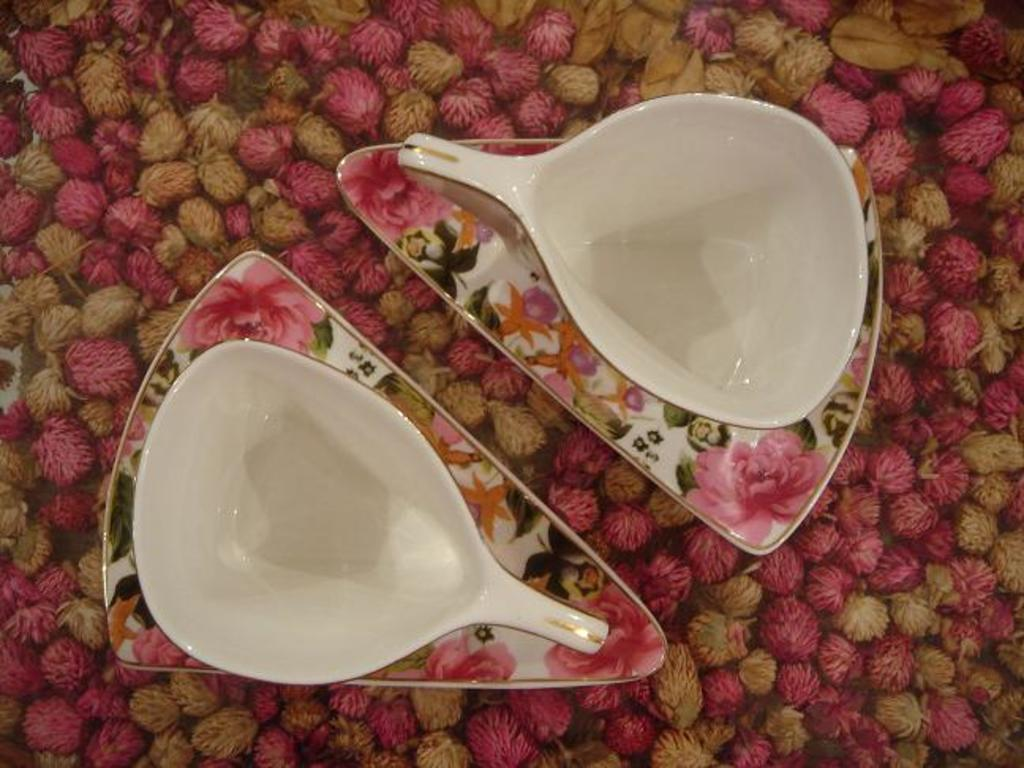plate: (102, 249, 668, 690)
